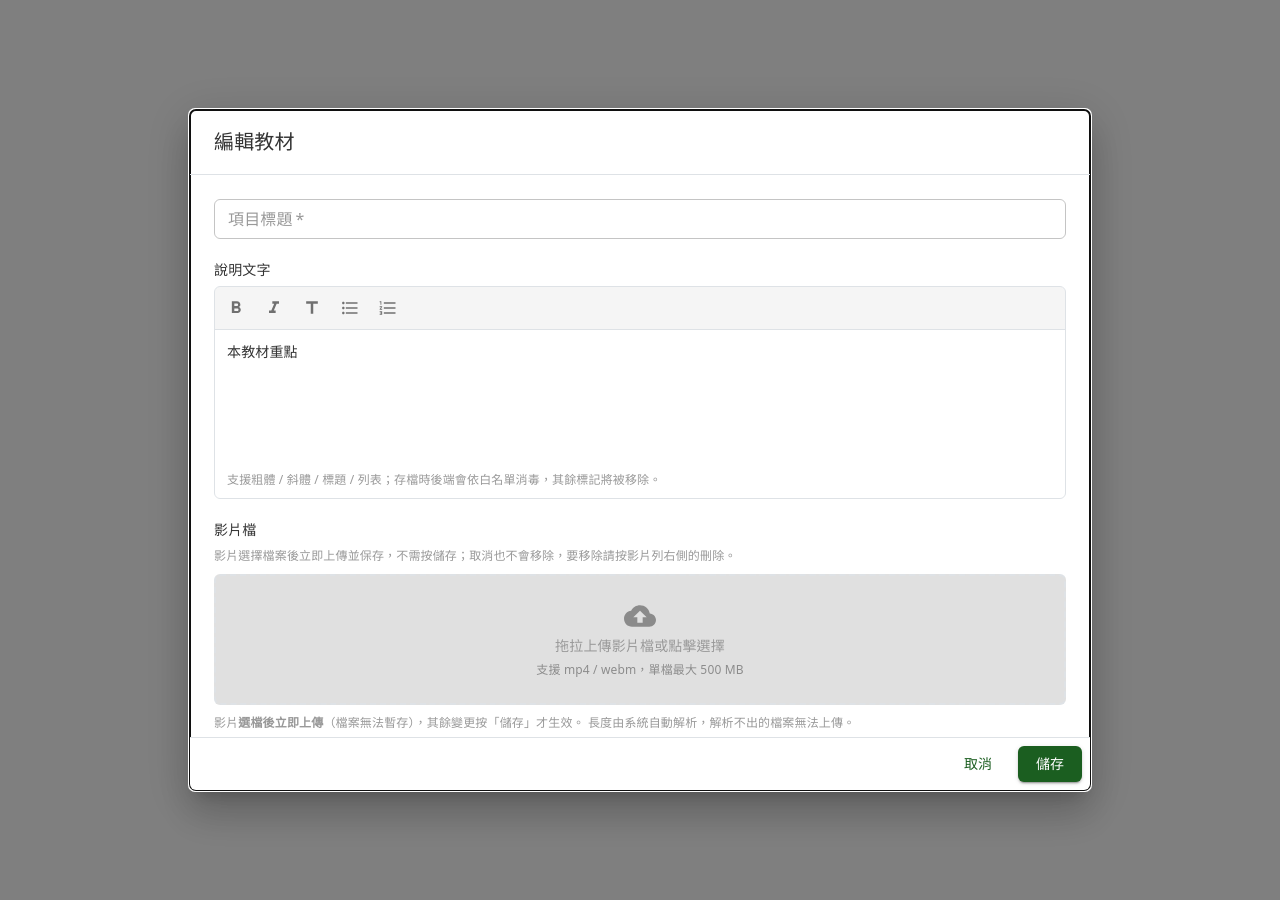
教材編輯視窗 › 開始輸入後清掉欄位錯誤
Click the button "儲存" at (1050, 764), box top-left (1018, 746), bottom-right (1082, 782)
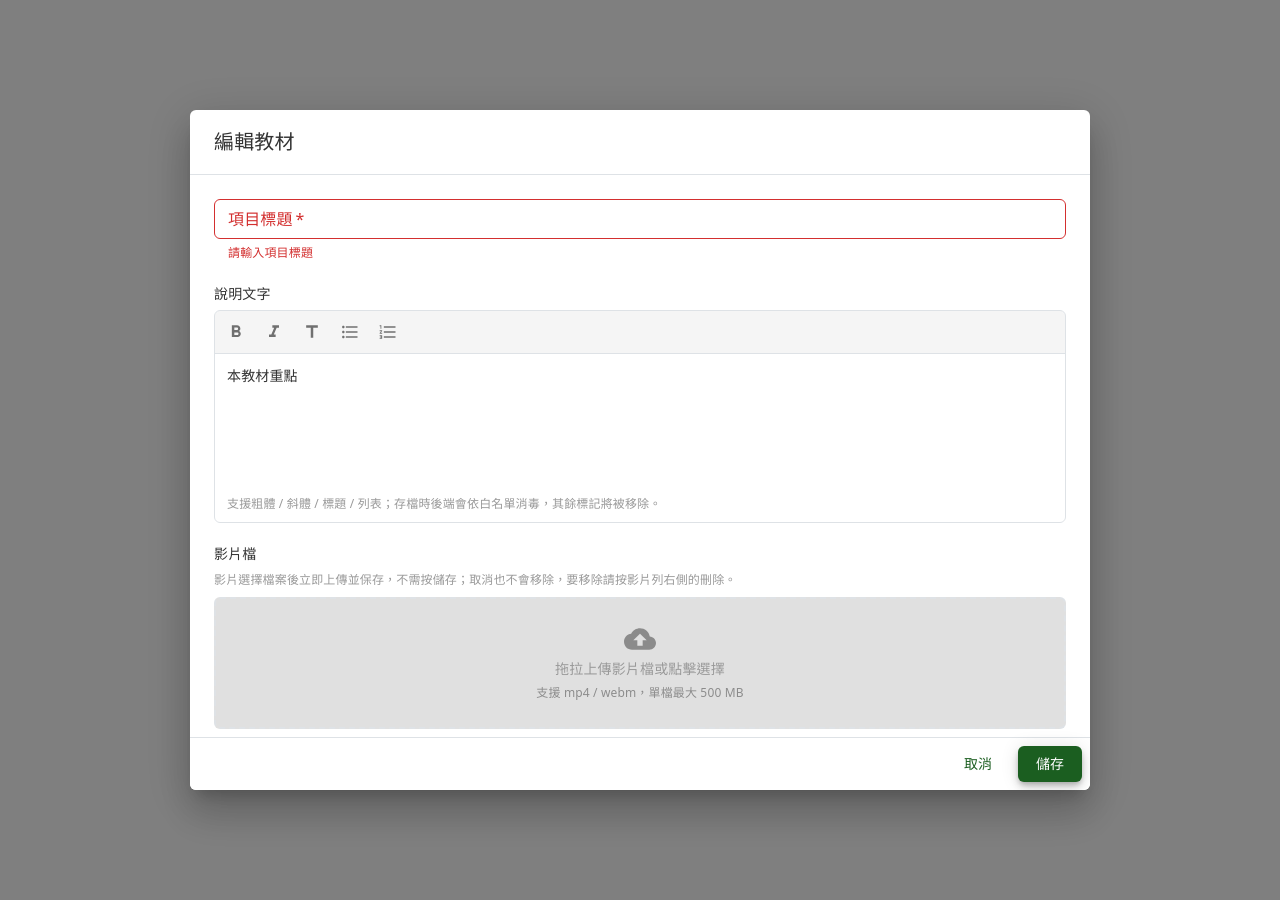
Expected: the text "請輸入項目標題" is shown, top-left (228, 244), bottom-right (313, 261)
Type "教材" into the field labelled "項目標題 *" at (640, 219), box top-left (214, 199), bottom-right (1066, 239)
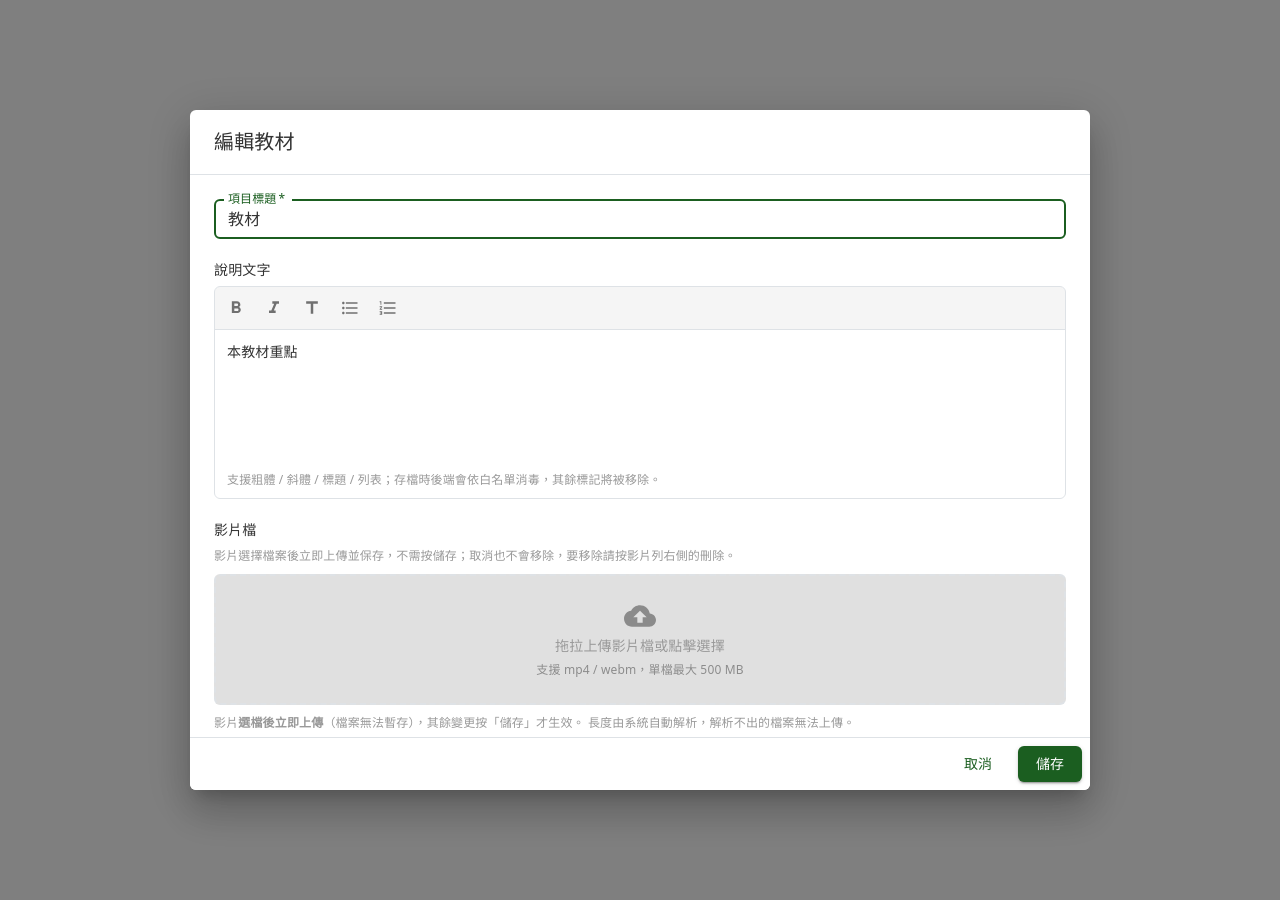
Expected: the text "請輸入項目標題" is gone
